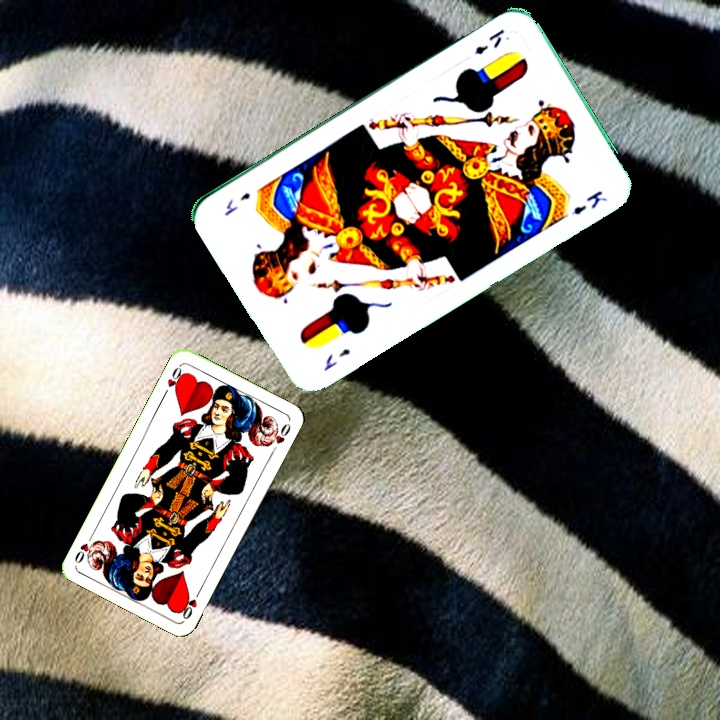EK: (470, 25, 507, 58), (319, 344, 353, 373)
HO: (159, 361, 188, 399), (176, 585, 204, 622)
